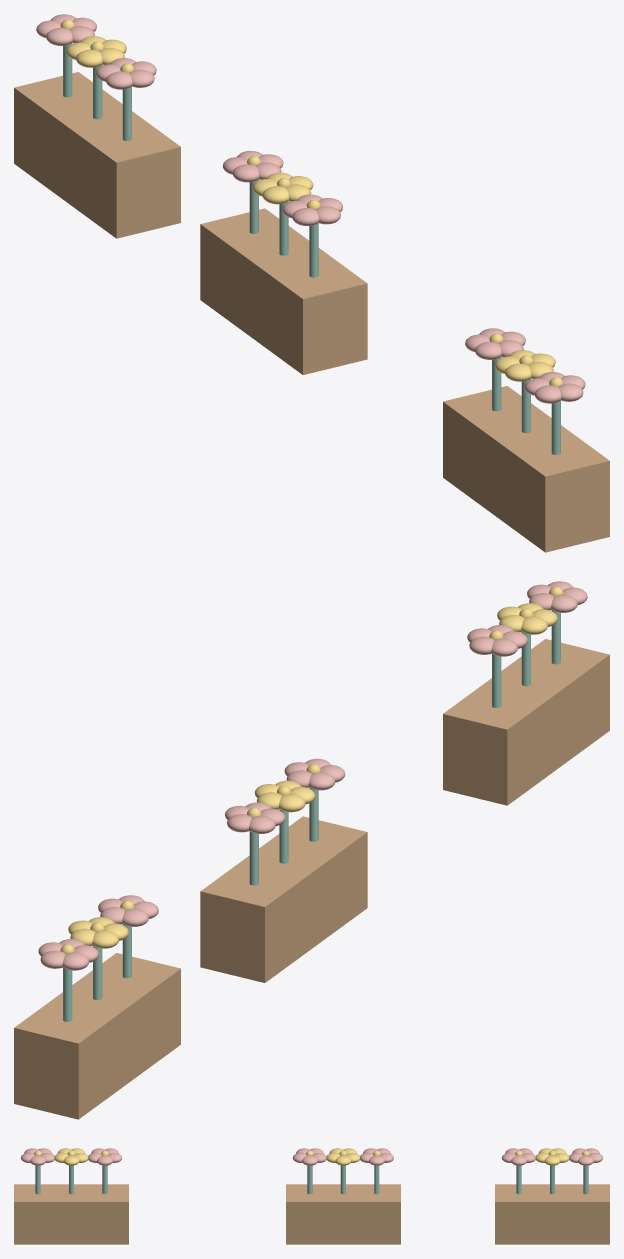
Rendered from flower-border.glb.
The picture shows the model from 3 angles, top to bottom: view 1: azimuth 30°, elevation 25°; view 2: azimuth 150°, elevation 25°; view 3: azimuth 270°, elevation 25°; orthographic projection. The views are drawn at different scales.
Visible parts, largest first — view 1: raised planter, rounded petal.001, flower heart.001, flower stem; view 2: raised planter, rounded petal.001, flower heart.001, flower stem; view 3: raised planter, rounded petal.001, flower heart.001, flower stem.
Boxes of the visible parts, x1,y1,x2,y2 form: raised planter: [14, 72, 609, 552]; rounded petal.001: [36, 14, 585, 403]; flower heart.001: [60, 19, 563, 386]; flower stem: [63, 43, 560, 454]; raised planter: [14, 639, 609, 1119]; rounded petal.001: [38, 581, 587, 970]; flower heart.001: [60, 586, 563, 953]; flower stem: [63, 610, 560, 1021]; raised planter: [14, 1184, 609, 1244]; rounded petal.001: [21, 1148, 602, 1165]; flower heart.001: [34, 1148, 589, 1165]; flower stem: [35, 1165, 588, 1194].
Bounding box in the file's own units: 0.4 × 0.895 × 5.7.
